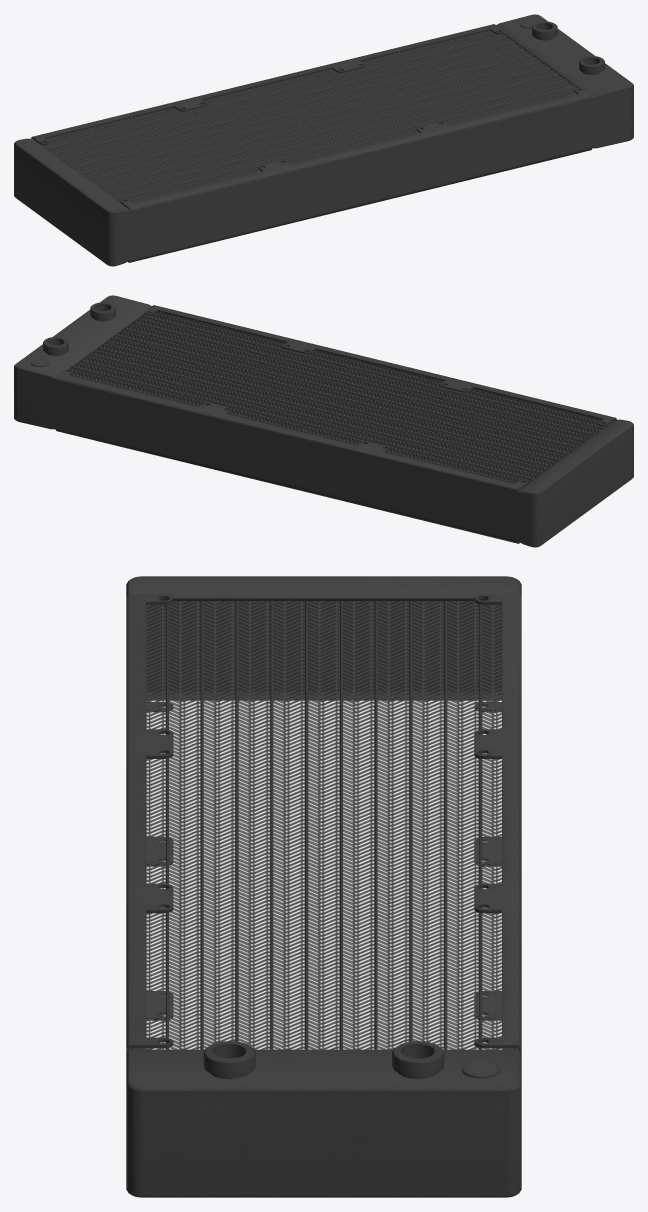
Rendered from RADIATOR.glb.
The picture shows the model from 3 angles, top to bottom: view 1: azimuth 30°, elevation 25°; view 2: azimuth 150°, elevation 25°; view 3: azimuth 270°, elevation 25°; orthographic projection. The views are drawn at different scales.
Parts seen in each view (by area): view 1: RADIATOR; view 2: RADIATOR; view 3: RADIATOR.
Part boxes in pixels (box(x1,y1,x2,y2)): RADIATOR: box(14, 14, 633, 266); RADIATOR: box(14, 295, 633, 547); RADIATOR: box(126, 576, 521, 1197).
Bounding box in the file's own units: 0.4 × 0.0469 × 0.13.
Materials: 1 (1 with a texture image).
